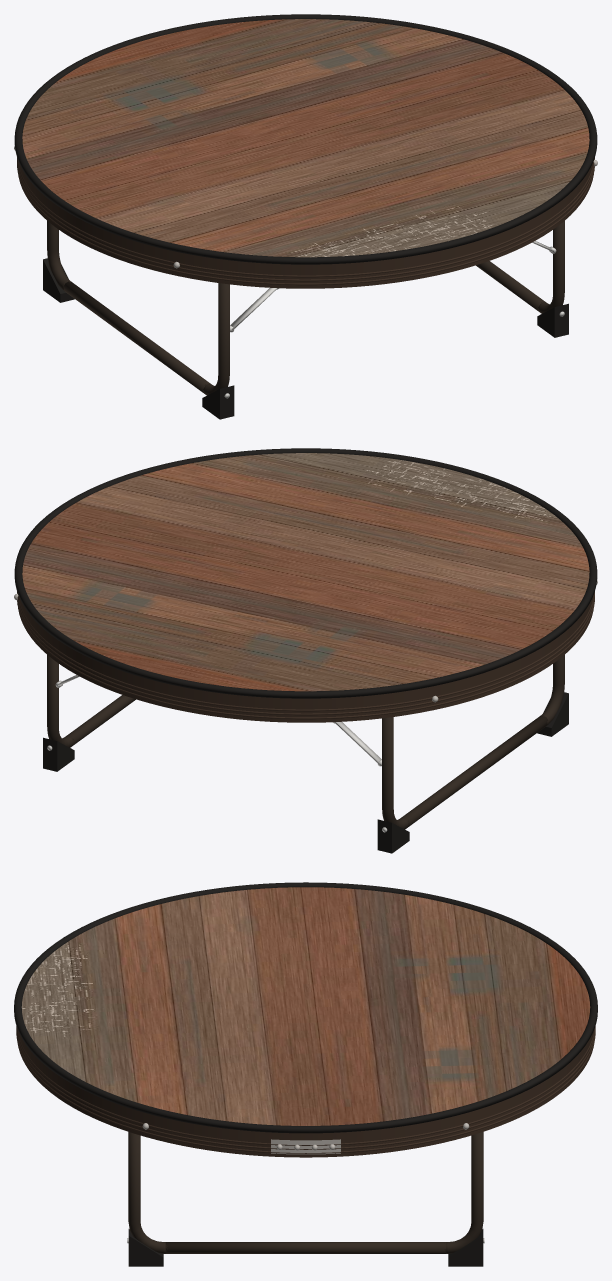
File: captainstag-uc612-chabu-table-60.glb
The picture shows the model from 3 angles, top to bottom: view 1: azimuth 30°, elevation 25°; view 2: azimuth 150°, elevation 25°; view 3: azimuth 270°, elevation 25°; orthographic projection.
Size of the model in its own units: 0.6009 by 0.2 by 0.6.
7 materials, 1 textured.
